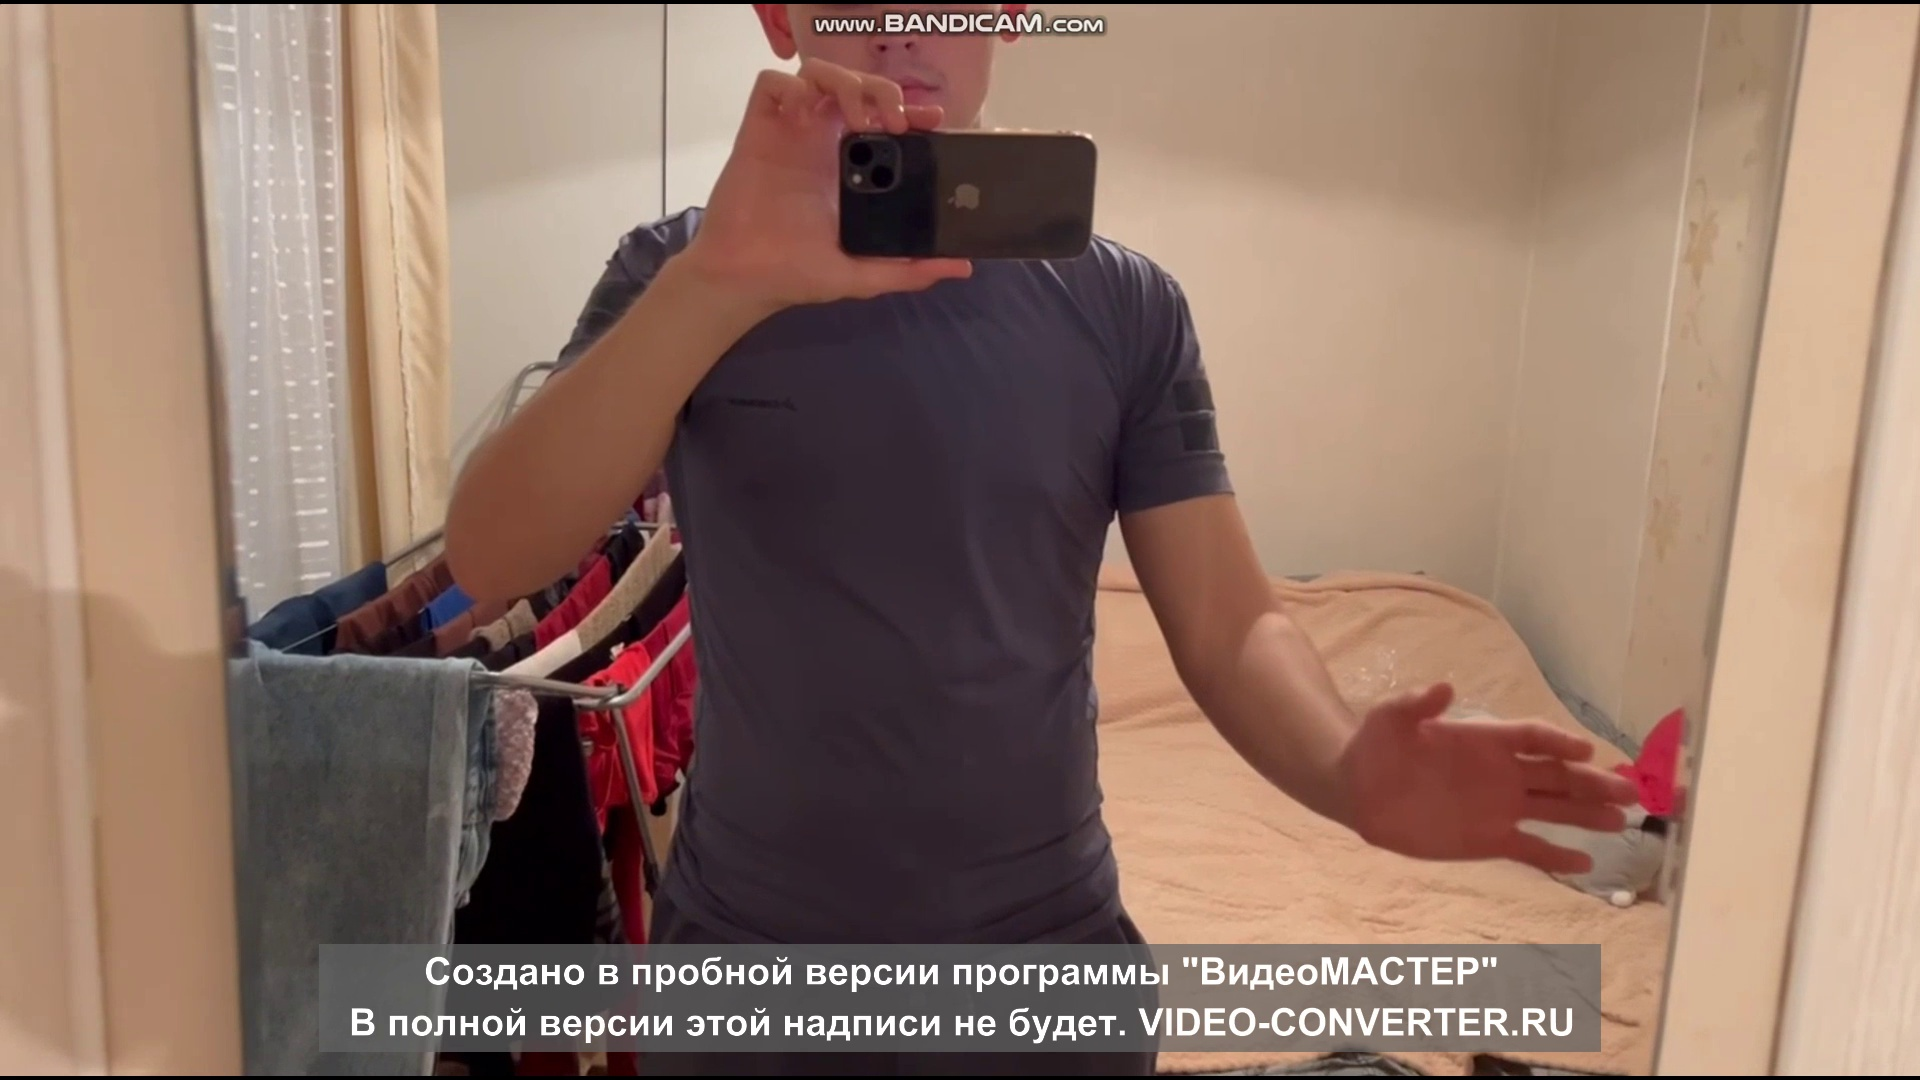Ладонь: (1341, 676, 1638, 873)
